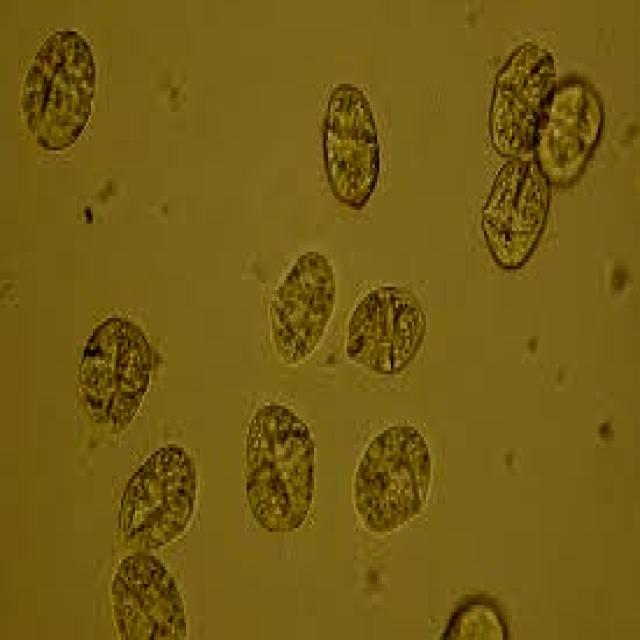Karenia: (489, 41, 601, 280), (20, 28, 100, 158), (73, 302, 152, 433), (246, 405, 316, 537), (116, 444, 205, 544), (358, 427, 437, 535), (324, 83, 383, 213), (269, 256, 335, 362), (353, 286, 425, 380), (107, 566, 188, 640)
